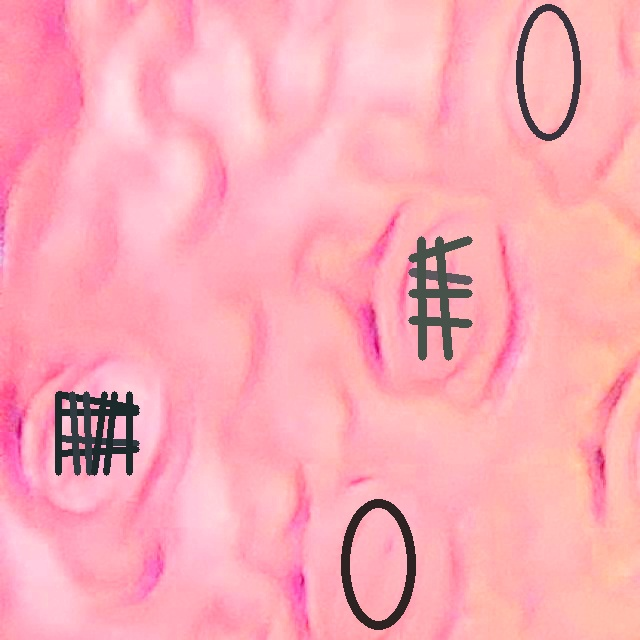close: (340, 498, 415, 630), (515, 5, 582, 140), (409, 236, 471, 359)
open: (56, 392, 139, 475)
